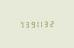nine: (27, 20, 31, 28)
one: (32, 20, 36, 28), (37, 19, 41, 27)
seven: (17, 20, 21, 28)
three: (22, 20, 26, 28), (42, 19, 46, 27)
two: (47, 19, 51, 27)
